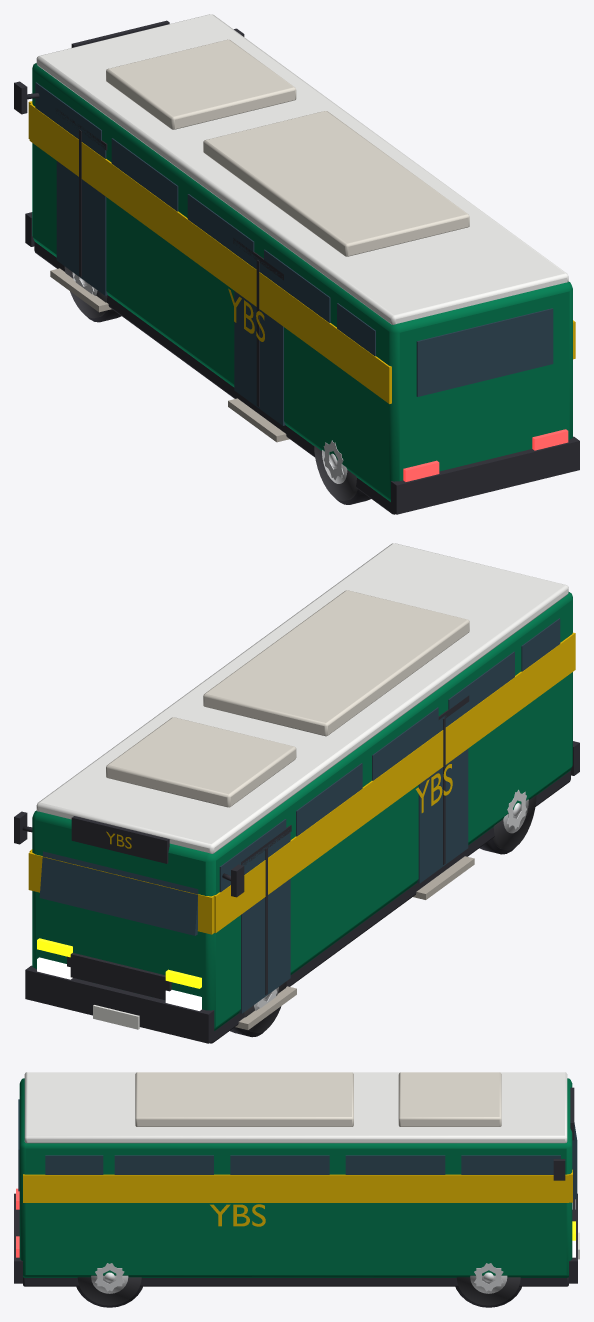
Rendered from ybs-bus.glb.
3 views of the same model, one above another, from view 1: azimuth 30°, elevation 25°; view 2: azimuth 150°, elevation 25°; view 3: azimuth 270°, elevation 25° (orthographic). The views are drawn at different scales.
Parts seen in each view (by area): view 1: Bus_Body.001, Bus_Roof.001, Bus_RoofAC.001, Bus_YellowBand.003, Bus_RoofAC2.001, Bus_RearWindow.001, Bus_Bumper_R.001, Bus_Door.002, Bus_Door.003, Bus_Skirt.001, Bus_SideWindow.016, Bus_SideWindow.017 (+6 smaller); view 2: Bus_Body.001, Bus_Roof.001, Bus_RoofAC.001, Bus_YellowBand.003, Bus_RoofAC2.001, Bus_Windshield.001, Bus_Bumper_F.001, Bus_Door.002, Bus_Door.003, Bus_Skirt.001, Bus_Grille.001, Bus_DestDisplay.001 (+10 smaller); view 3: Bus_Body.001, Bus_Roof.001, Bus_YellowBand.002, Bus_RoofAC.001, Bus_RoofAC2.001, Bus_Skirt.001, Bus_SideWindow.011, Bus_SideWindow.012, Bus_SideWindow.013, Bus_SideWindow.010, Bus_SideWindow.014, Bus_Wheel.004 (+5 smaller).
Boxes of the visible parts, left/top/right/bottom form: Bus_Body.001: left=32, top=63, right=572, bottom=501; Bus_Roof.001: left=36, top=14, right=568, bottom=324; Bus_RoofAC.001: left=203, top=111, right=469, bottom=256; Bus_YellowBand.003: left=29, top=103, right=391, bottom=403; Bus_RoofAC2.001: left=106, top=39, right=296, bottom=129; Bus_RearWindow.001: left=416, top=308, right=553, bottom=396; Bus_Bumper_R.001: left=391, top=436, right=579, bottom=514; Bus_Door.002: left=56, top=111, right=107, bottom=295; Bus_Door.003: left=234, top=241, right=285, bottom=425; Bus_Skirt.001: left=34, top=241, right=395, bottom=514; Bus_SideWindow.016: left=111, top=138, right=178, bottom=211; Bus_SideWindow.017: left=187, top=194, right=254, bottom=266; Bus_Body.001: left=32, top=592, right=572, bottom=1030; Bus_Roof.001: left=36, top=543, right=568, bottom=853; Bus_RoofAC.001: left=203, top=590, right=469, bottom=736; Bus_YellowBand.003: left=214, top=632, right=575, bottom=932; Bus_RoofAC2.001: left=106, top=717, right=296, bottom=807; Bus_Windshield.001: left=39, top=851, right=198, bottom=935; Bus_Bumper_F.001: left=25, top=965, right=214, bottom=1043; Bus_Door.002: left=239, top=830, right=290, bottom=1013; Bus_Door.003: left=417, top=710, right=468, bottom=883; Bus_Skirt.001: left=209, top=770, right=570, bottom=1043; Bus_Grille.001: left=67, top=953, right=171, bottom=1000; Bus_DestDisplay.001: left=71, top=816, right=169, bottom=863; Bus_Body.001: left=19, top=1078, right=572, bottom=1277; Bus_Roof.001: left=24, top=1072, right=567, bottom=1143; Bus_YellowBand.002: left=23, top=1174, right=568, bottom=1202; Bus_RoofAC.001: left=135, top=1072, right=353, bottom=1126; Bus_RoofAC2.001: left=398, top=1072, right=501, bottom=1126; Bus_Skirt.001: left=23, top=1277, right=568, bottom=1286; Bus_SideWindow.011: left=345, top=1155, right=445, bottom=1174; Bus_SideWindow.012: left=230, top=1155, right=329, bottom=1174; Bus_SideWindow.013: left=114, top=1155, right=213, bottom=1174; Bus_SideWindow.010: left=461, top=1155, right=560, bottom=1174; Bus_SideWindow.014: left=45, top=1155, right=103, bottom=1174; Bus_Wheel.004: left=456, top=1277, right=520, bottom=1305.
Size of the model in its own units: 3.04 by 3.11 by 8.81.
